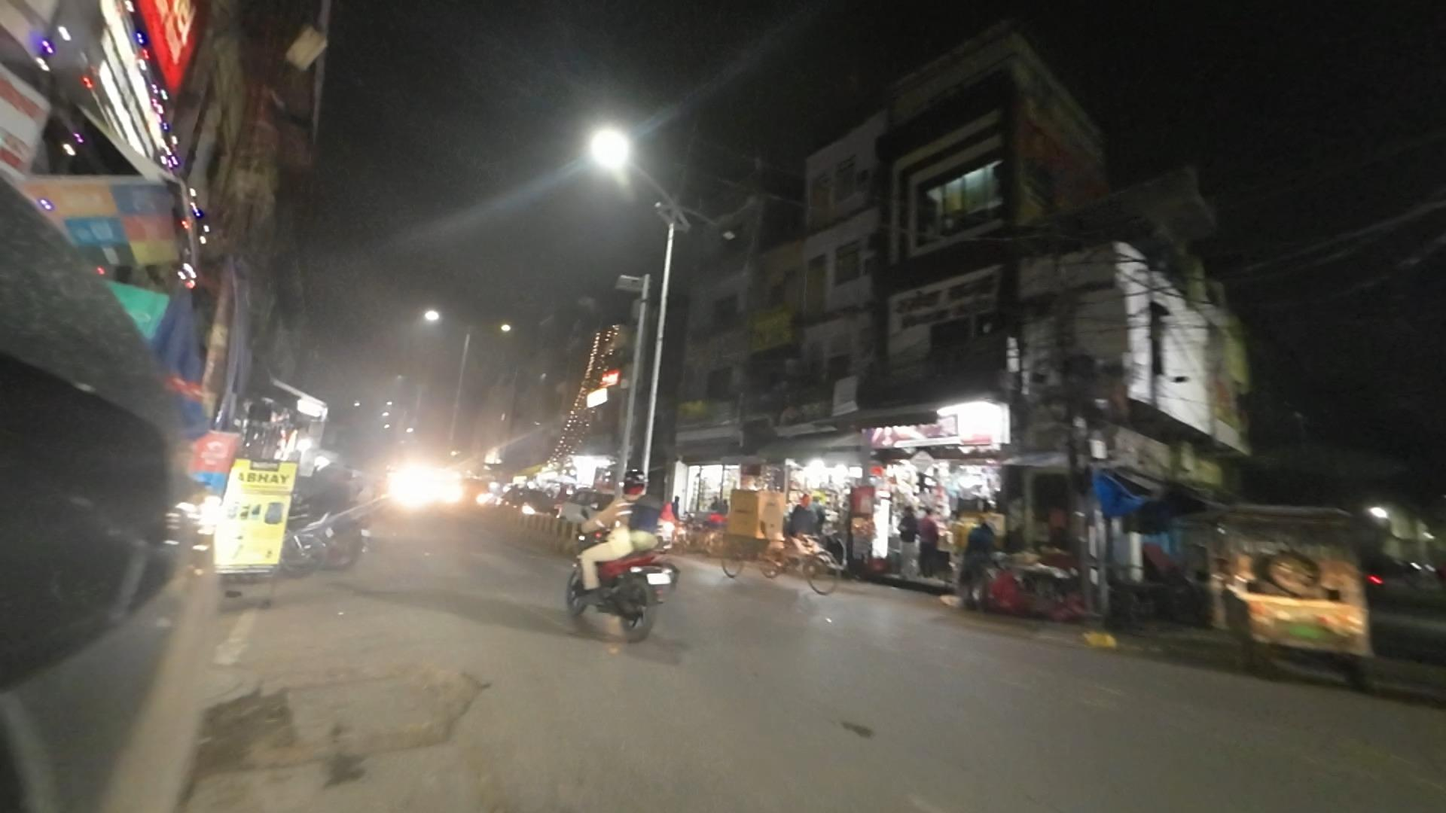streetlight: (687, 203, 742, 242)
